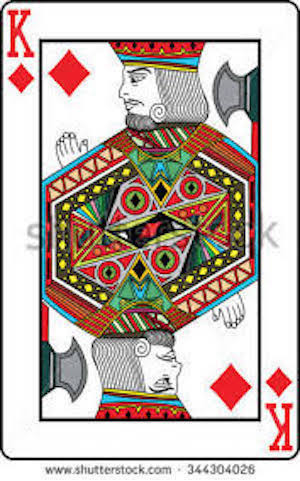KingOfDiamonds: (2, 4, 300, 460)
